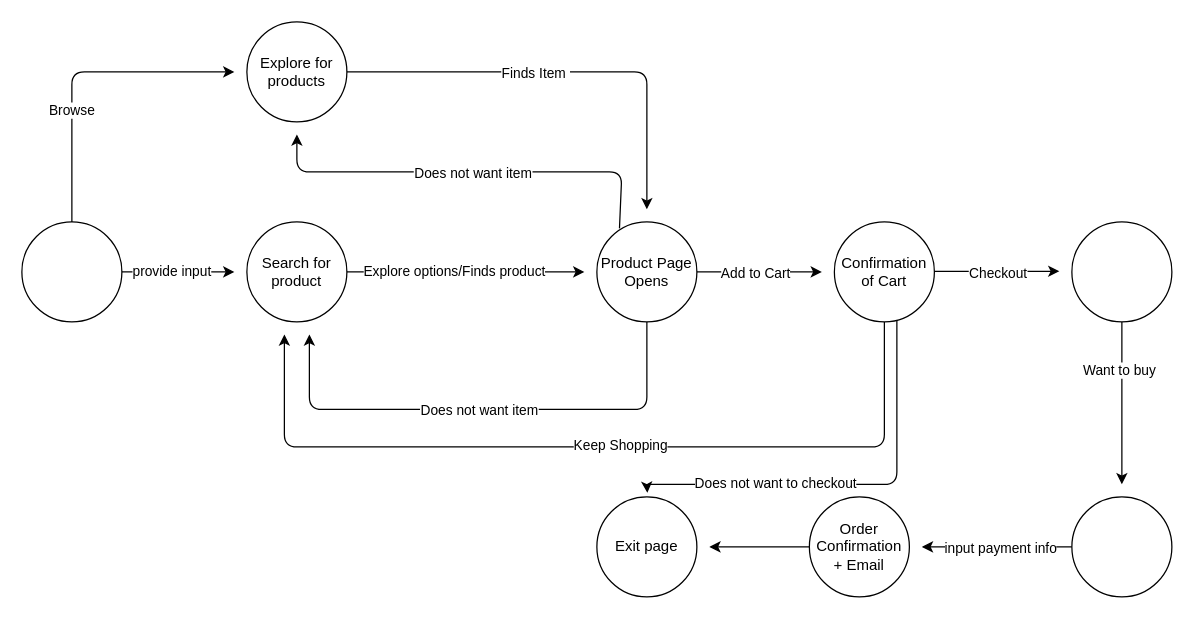
This 1194x619 diagram has some shape labels left out. Each missing label, with the box of its shape:
Enter User: (21, 221, 122, 322)
View Cart Page: (1071, 221, 1172, 322)
View Payment page: (1071, 496, 1172, 597)
